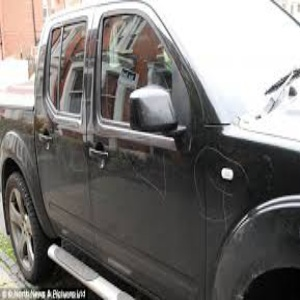door_scratch: (130, 160, 209, 224)
